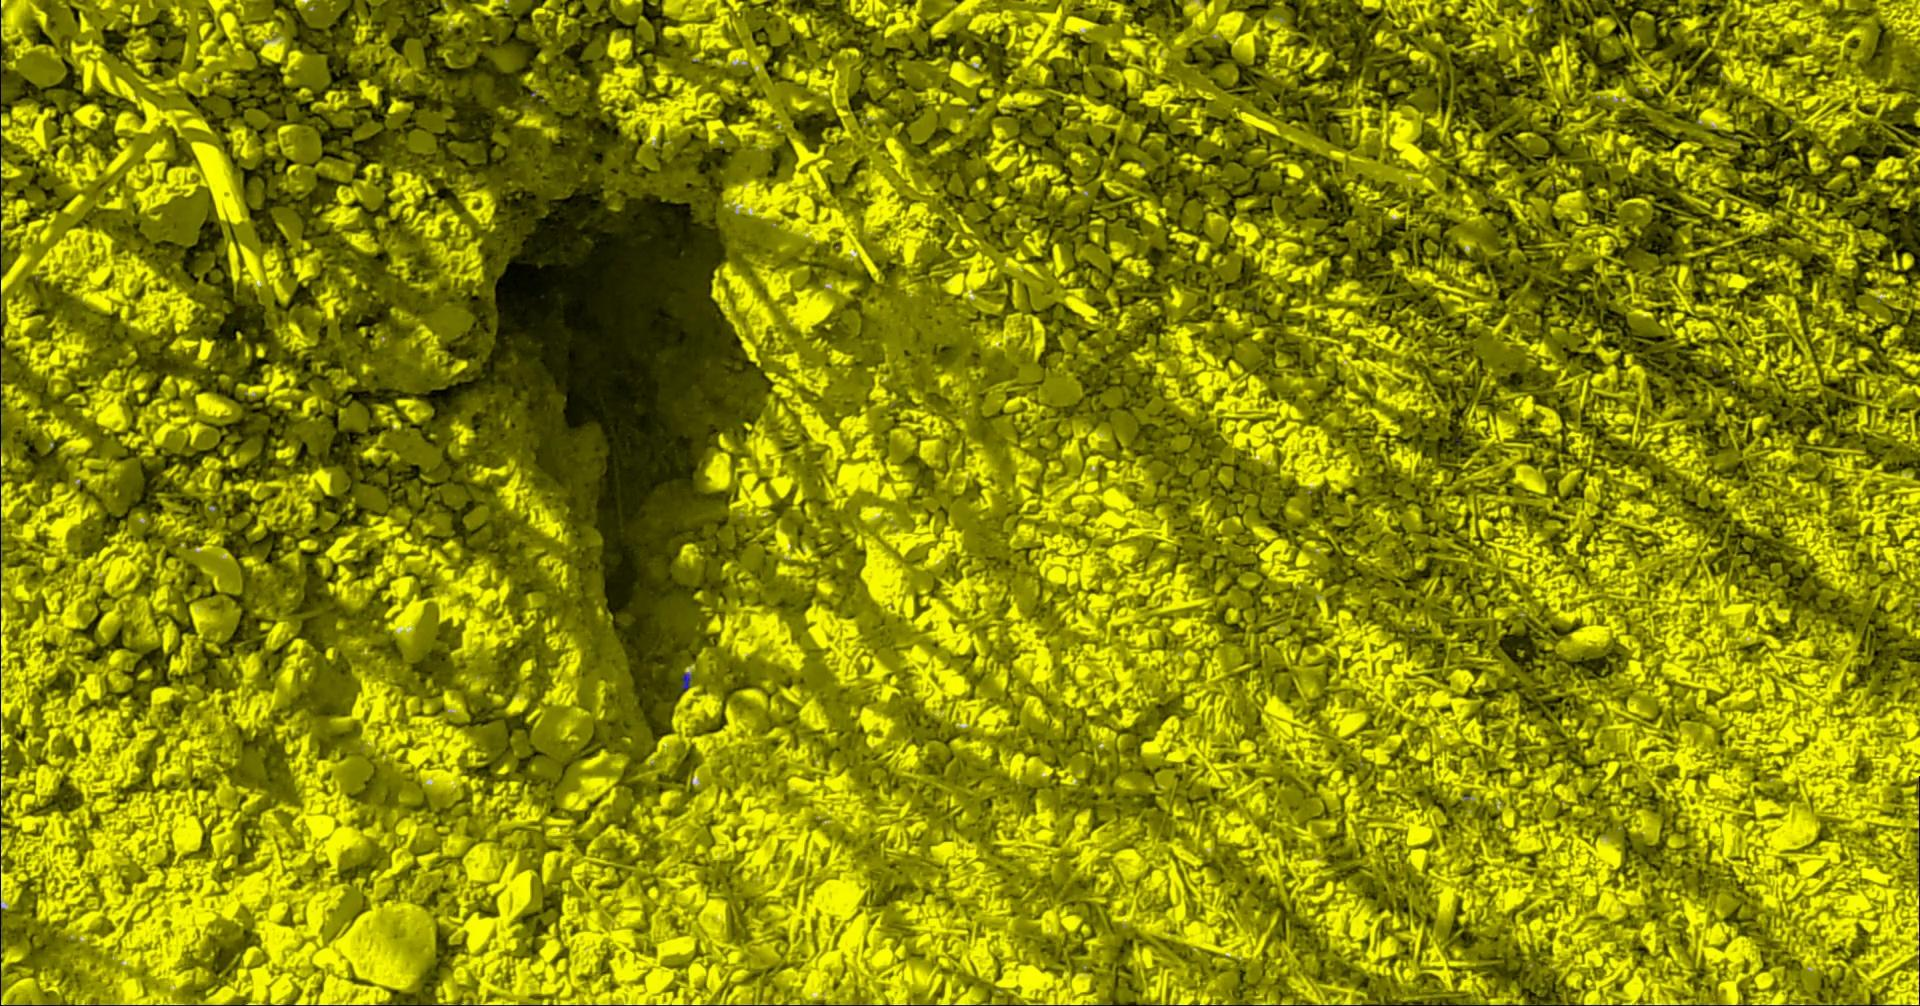ant: (681, 673, 691, 690)
